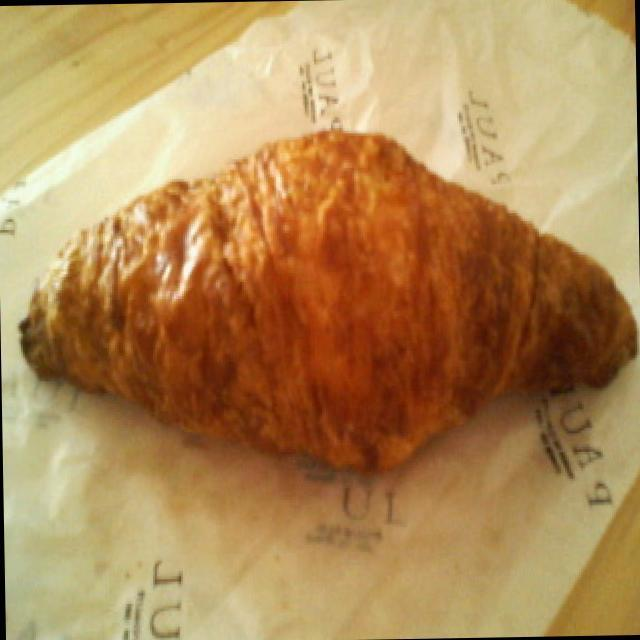Croissant: (0, 112, 632, 480)
